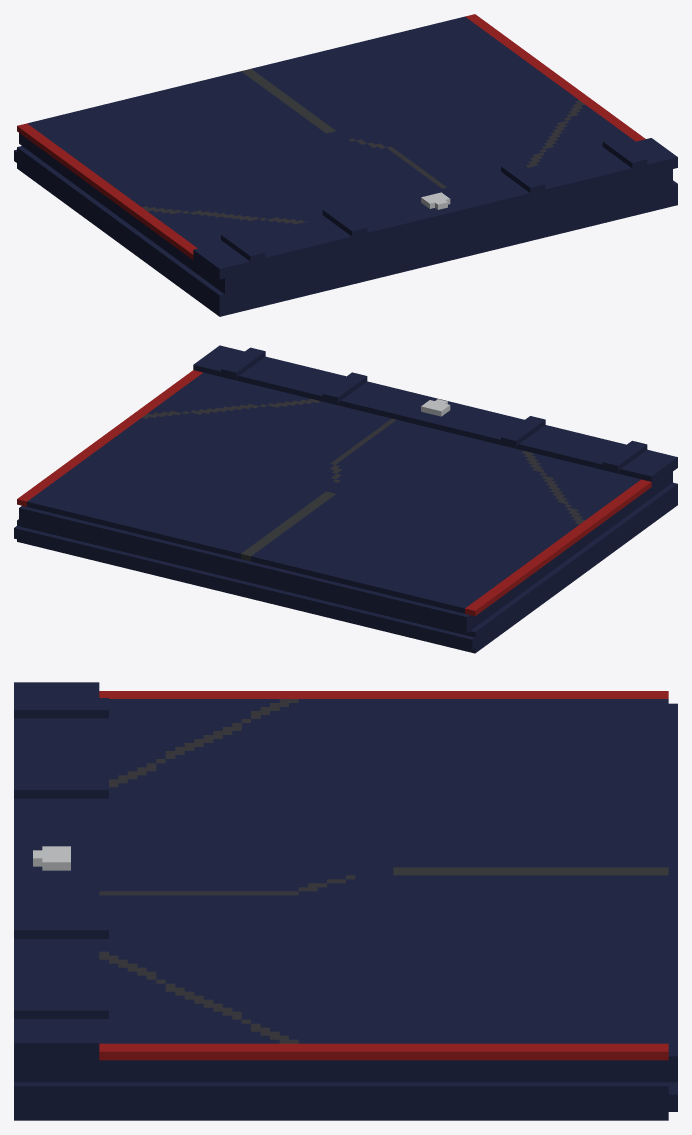
The model's file is postman_shorts.glb.
The picture shows the model from 3 angles, top to bottom: view 1: azimuth 30°, elevation 25°; view 2: azimuth 150°, elevation 25°; view 3: azimuth 270°, elevation 25°; orthographic projection. The views are drawn at different scales.
Visible parts, largest first — view 1: postman_shorts:compound; view 2: postman_shorts:compound; view 3: postman_shorts:compound.
Boxes of the visible parts, left/top/right/bottom form: postman_shorts:compound: left=14, top=14, right=677, bottom=316; postman_shorts:compound: left=14, top=345, right=677, bottom=653; postman_shorts:compound: left=14, top=682, right=677, bottom=1120.
Bounding box in the file's own units: 0.36 × 0.04 × 0.28.
